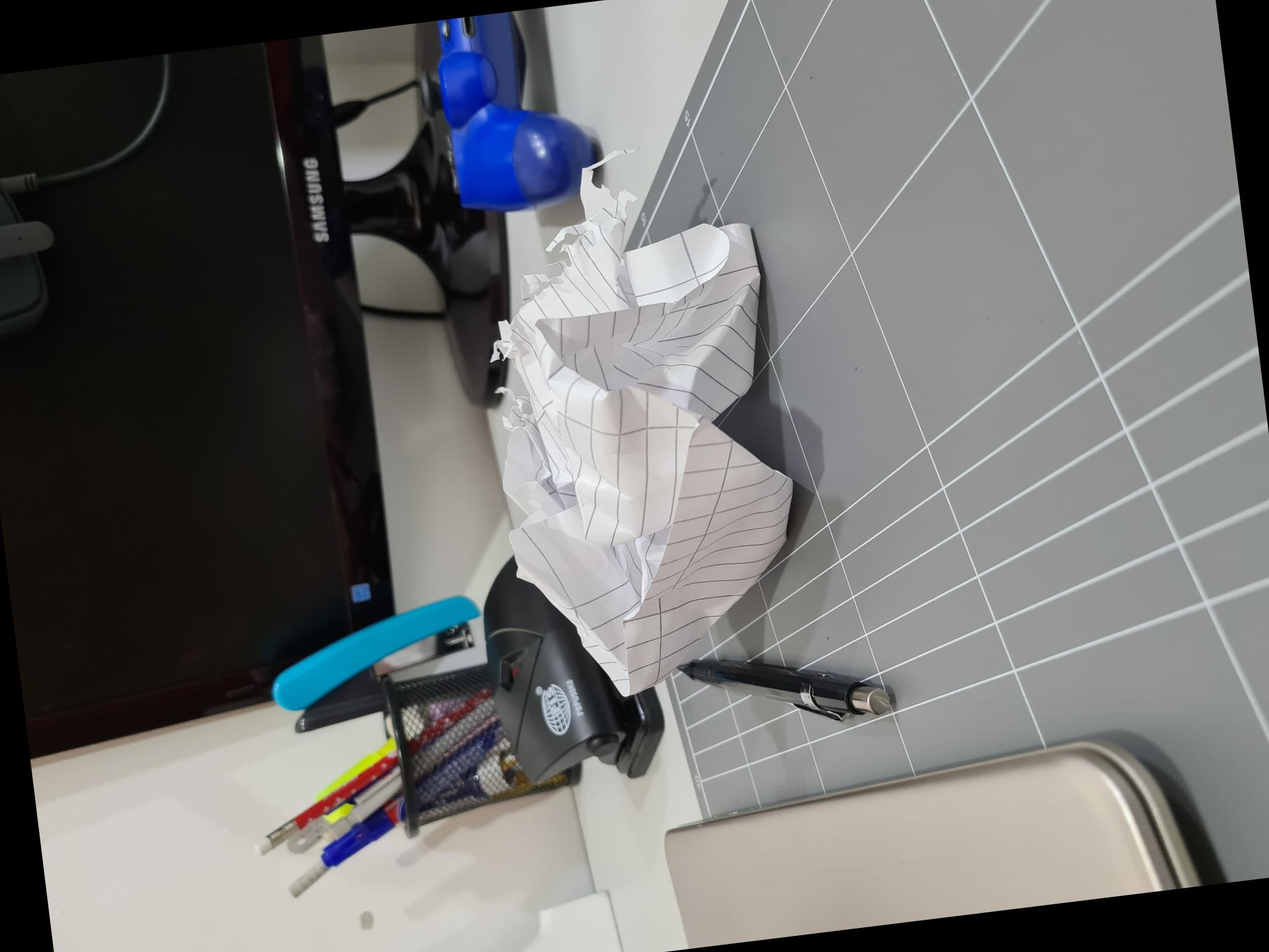Kertas: (279, 525, 773, 810)
